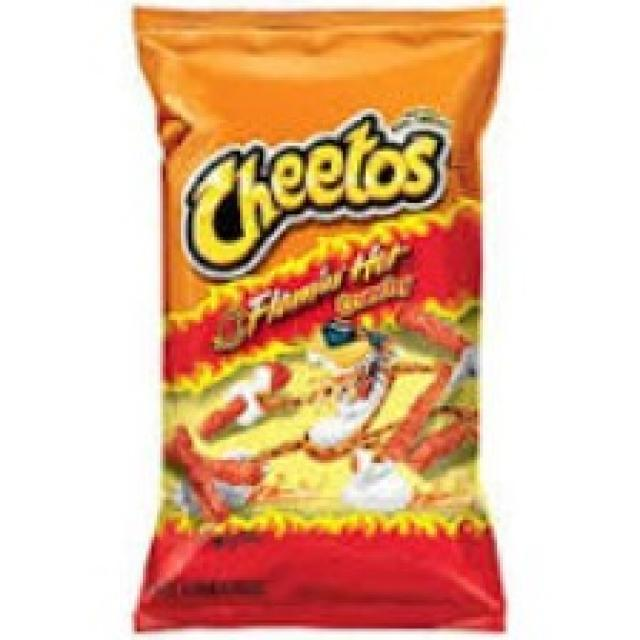plastic: (123, 6, 514, 636)
